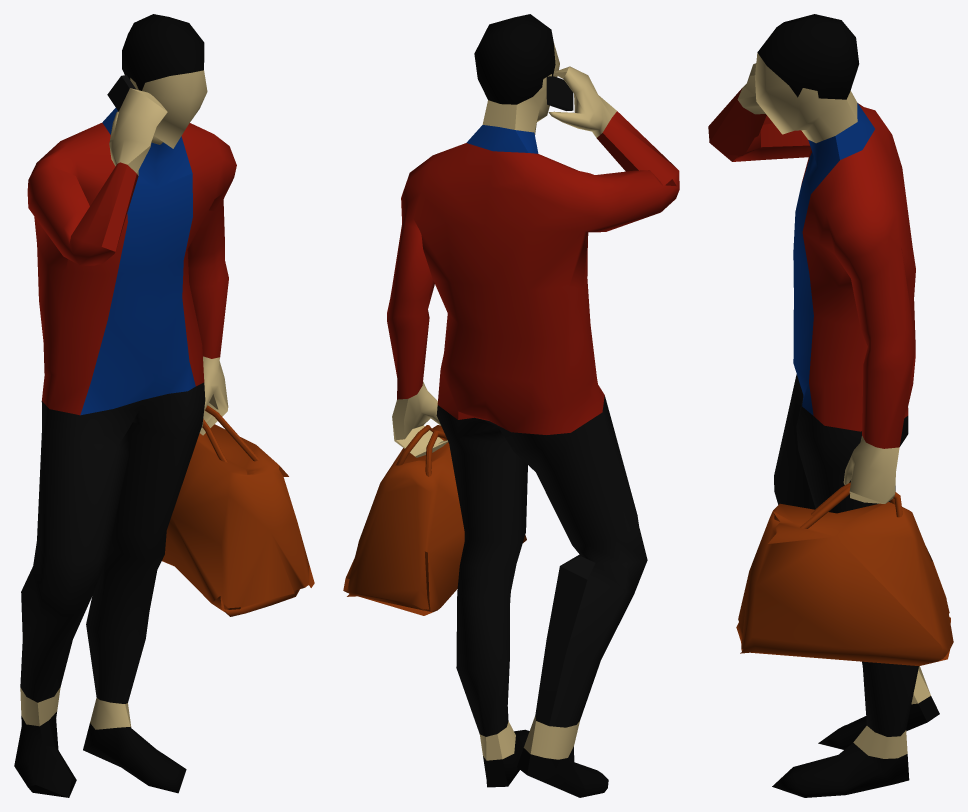
File: Mantakingphoneandbag.fbx
3 renders of one model, left to right at view 1: azimuth 30°, elevation 25°; view 2: azimuth 150°, elevation 25°; view 3: azimuth 270°, elevation 25°, orthographic. The views are drawn at different scales.
Parts seen in each view (by area): view 1: Object005, Object001, Line005, Object002, Object007, Object006, Object008; view 2: Object001, Object005, Line005, Object007, Object008, Object006, Object002, Line008; view 3: Object001, Line005, Object005, Object007, Object008, Object006, Object002.
Part boxes in pixels (x1,y1,x2,y2): Object005: [20, 382, 205, 703]; Object001: [27, 123, 236, 415]; Line005: [162, 405, 314, 616]; Object002: [80, 108, 195, 415]; Object007: [20, 70, 228, 729]; Object006: [14, 712, 186, 797]; Object008: [122, 14, 204, 90]; Object001: [387, 111, 679, 434]; Object005: [436, 395, 647, 736]; Line005: [343, 425, 526, 615]; Object007: [392, 42, 616, 760]; Object008: [474, 14, 555, 104]; Object006: [483, 729, 608, 797]; Object002: [466, 125, 538, 153]; Line008: [546, 76, 573, 110]; Object001: [708, 88, 915, 448]; Line005: [736, 482, 953, 665]; Object005: [774, 374, 918, 736]; Object007: [737, 53, 930, 758]; Object008: [757, 14, 859, 99]; Object006: [772, 696, 939, 797]; Object002: [793, 103, 874, 415].
Size of the model in its own units: 70.51 by 205 by 58.72.
